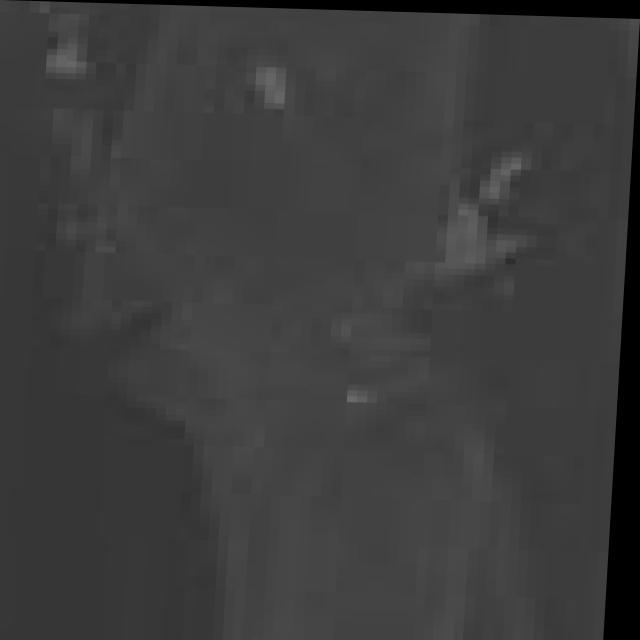fracture: (0, 4, 619, 640)
